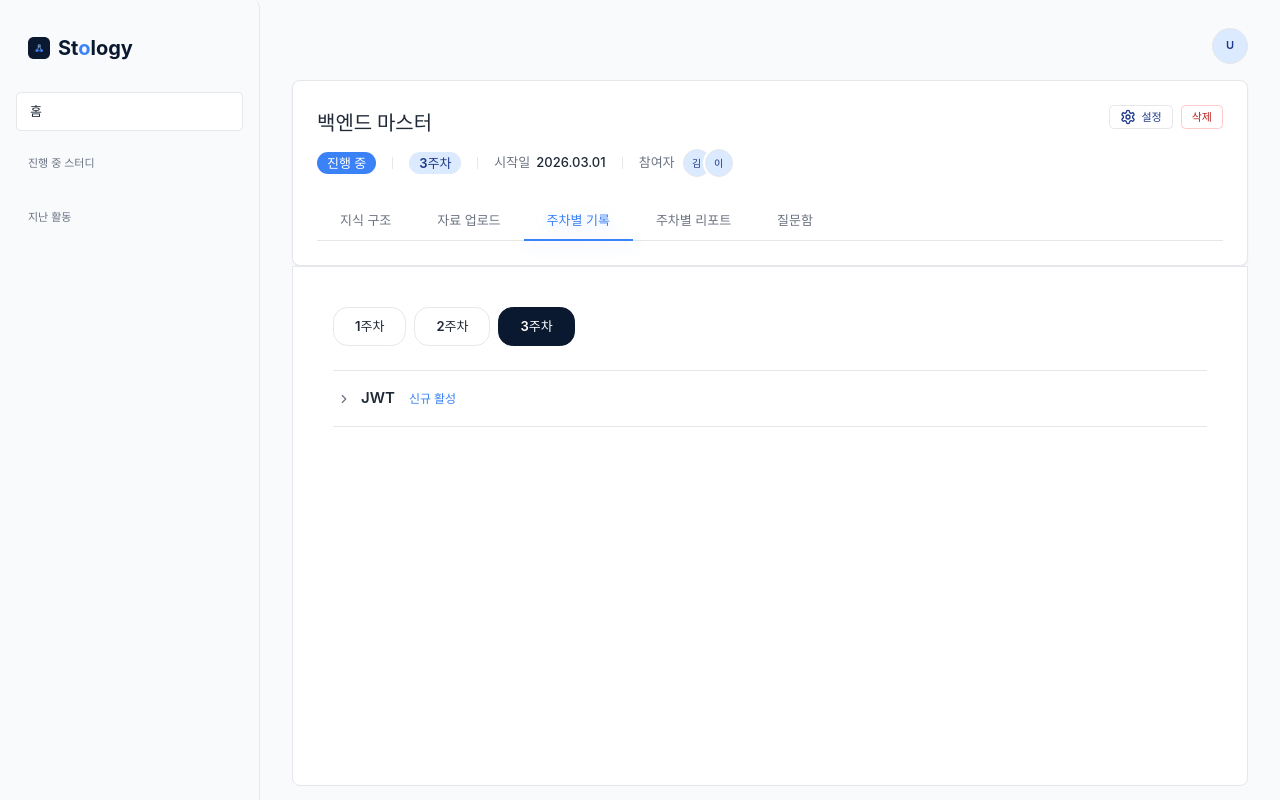
Scenario: StudyPage weekly records route › loads weekly nodes and fetches materials when a node is expanded
This screenshot has width=1280, height=800.
Click the button "JWT 신규 활성".
click(378, 398)  # box [333, 371, 1207, 426]
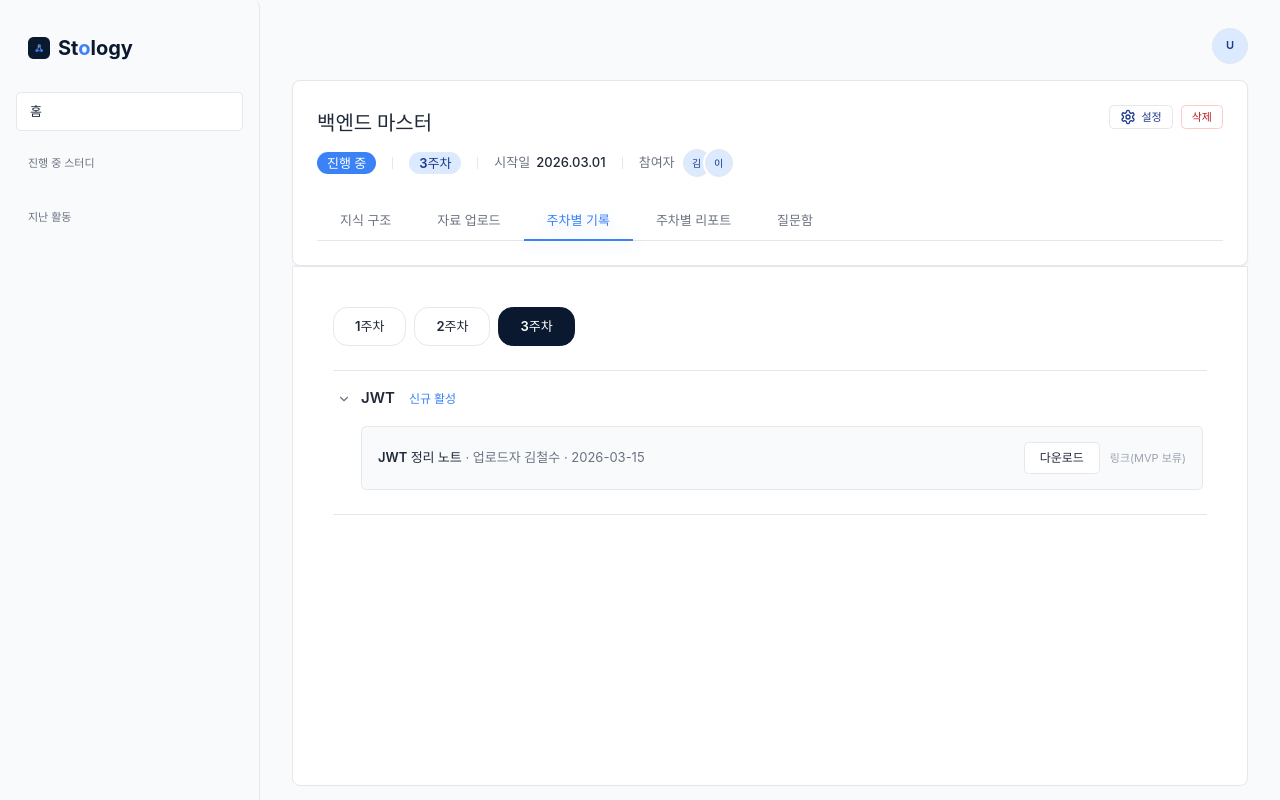
Check: the text "JWT 정리 노트" is shown, box [378, 449, 462, 465]
